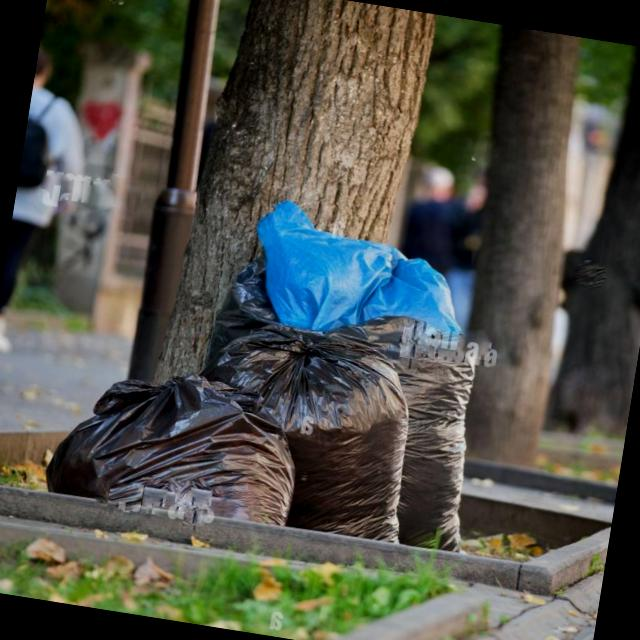garbage: (46, 167, 574, 588)
